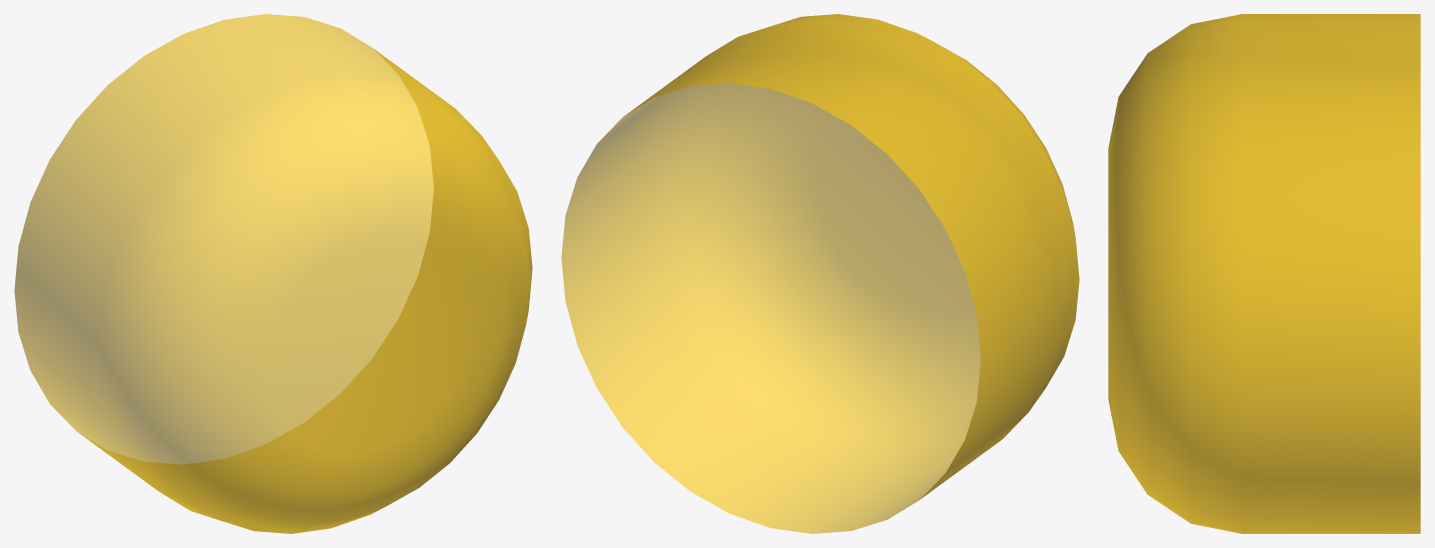
The model's file is ButtonsGlass_MouseYellowTrans_0.obj.
3 renders of one model, left to right at view 1: azimuth 30°, elevation 25°; view 2: azimuth 150°, elevation 25°; view 3: azimuth 270°, elevation 25°, orthographic. The views are drawn at different scales.
Visible parts, largest first — view 1: ButtonsGlass_MouseYellowTrans_0; view 2: ButtonsGlass_MouseYellowTrans_0; view 3: ButtonsGlass_MouseYellowTrans_0.
Part boxes in pixels (left/top/right/bottom): ButtonsGlass_MouseYellowTrans_0: left=14, top=14, right=532, bottom=533; ButtonsGlass_MouseYellowTrans_0: left=561, top=14, right=1079, bottom=533; ButtonsGlass_MouseYellowTrans_0: left=1108, top=14, right=1420, bottom=533.
Bounding box in the file's own units: 0.00794 × 0.00794 × 0.00476.
